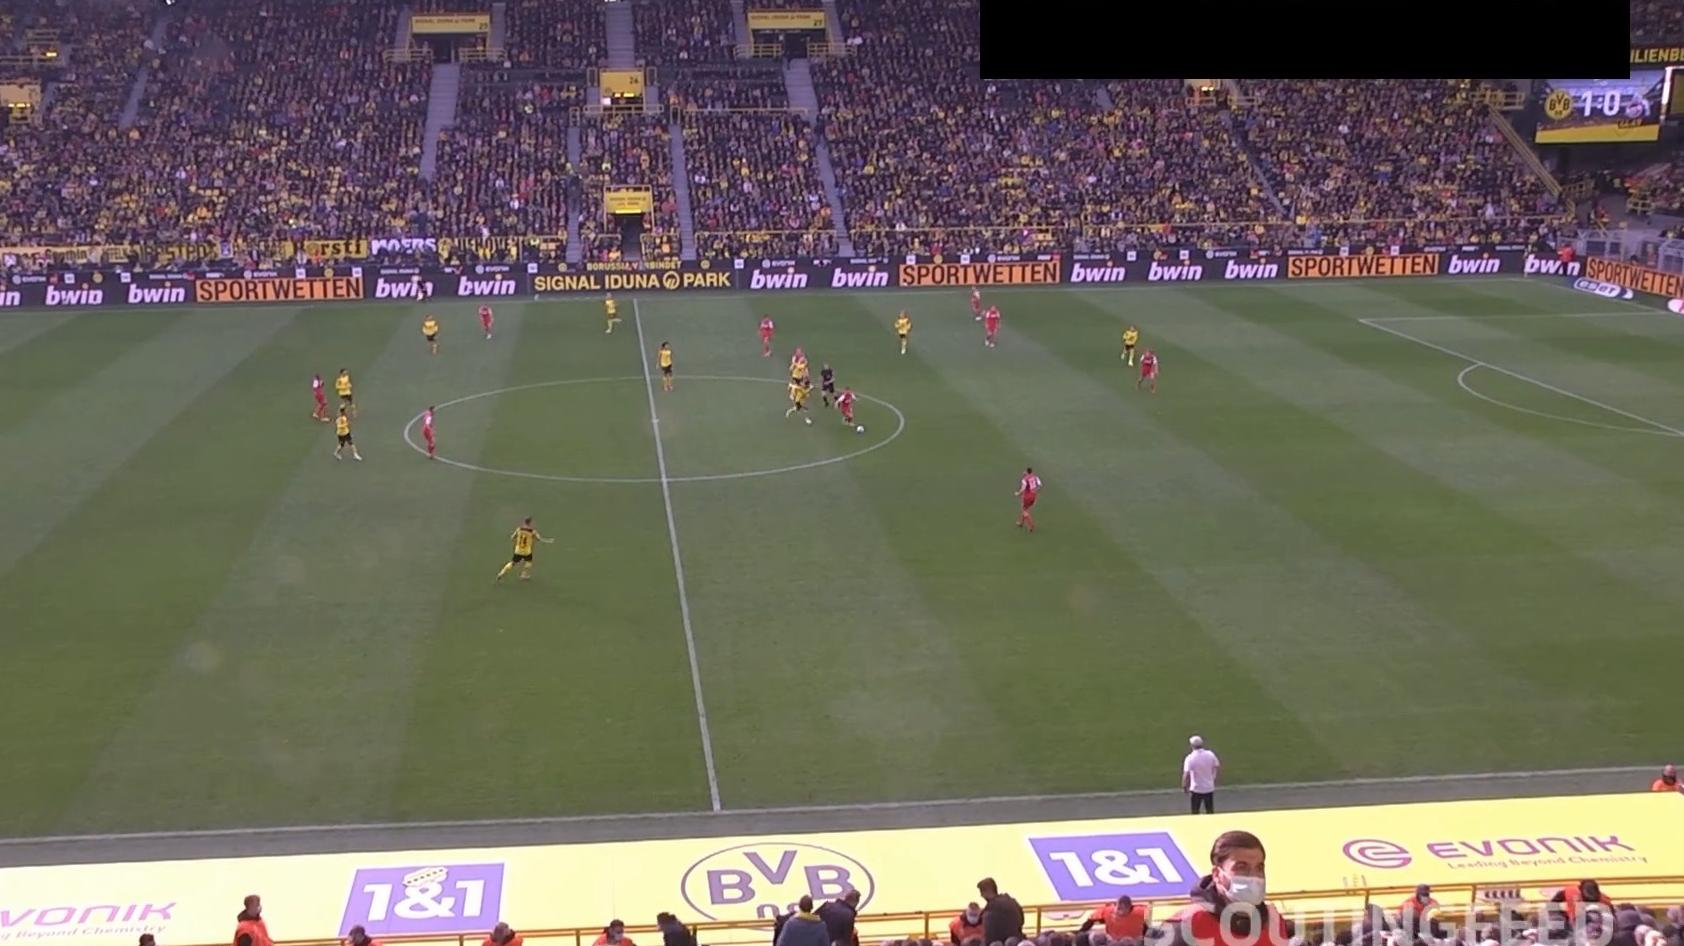ball: (856, 424, 865, 434)
